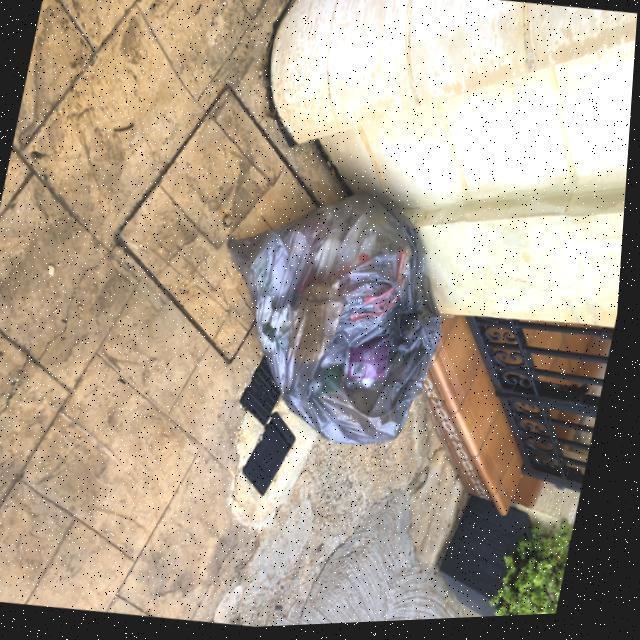Mixed Waste -Black Bag-: (197, 181, 474, 462)
